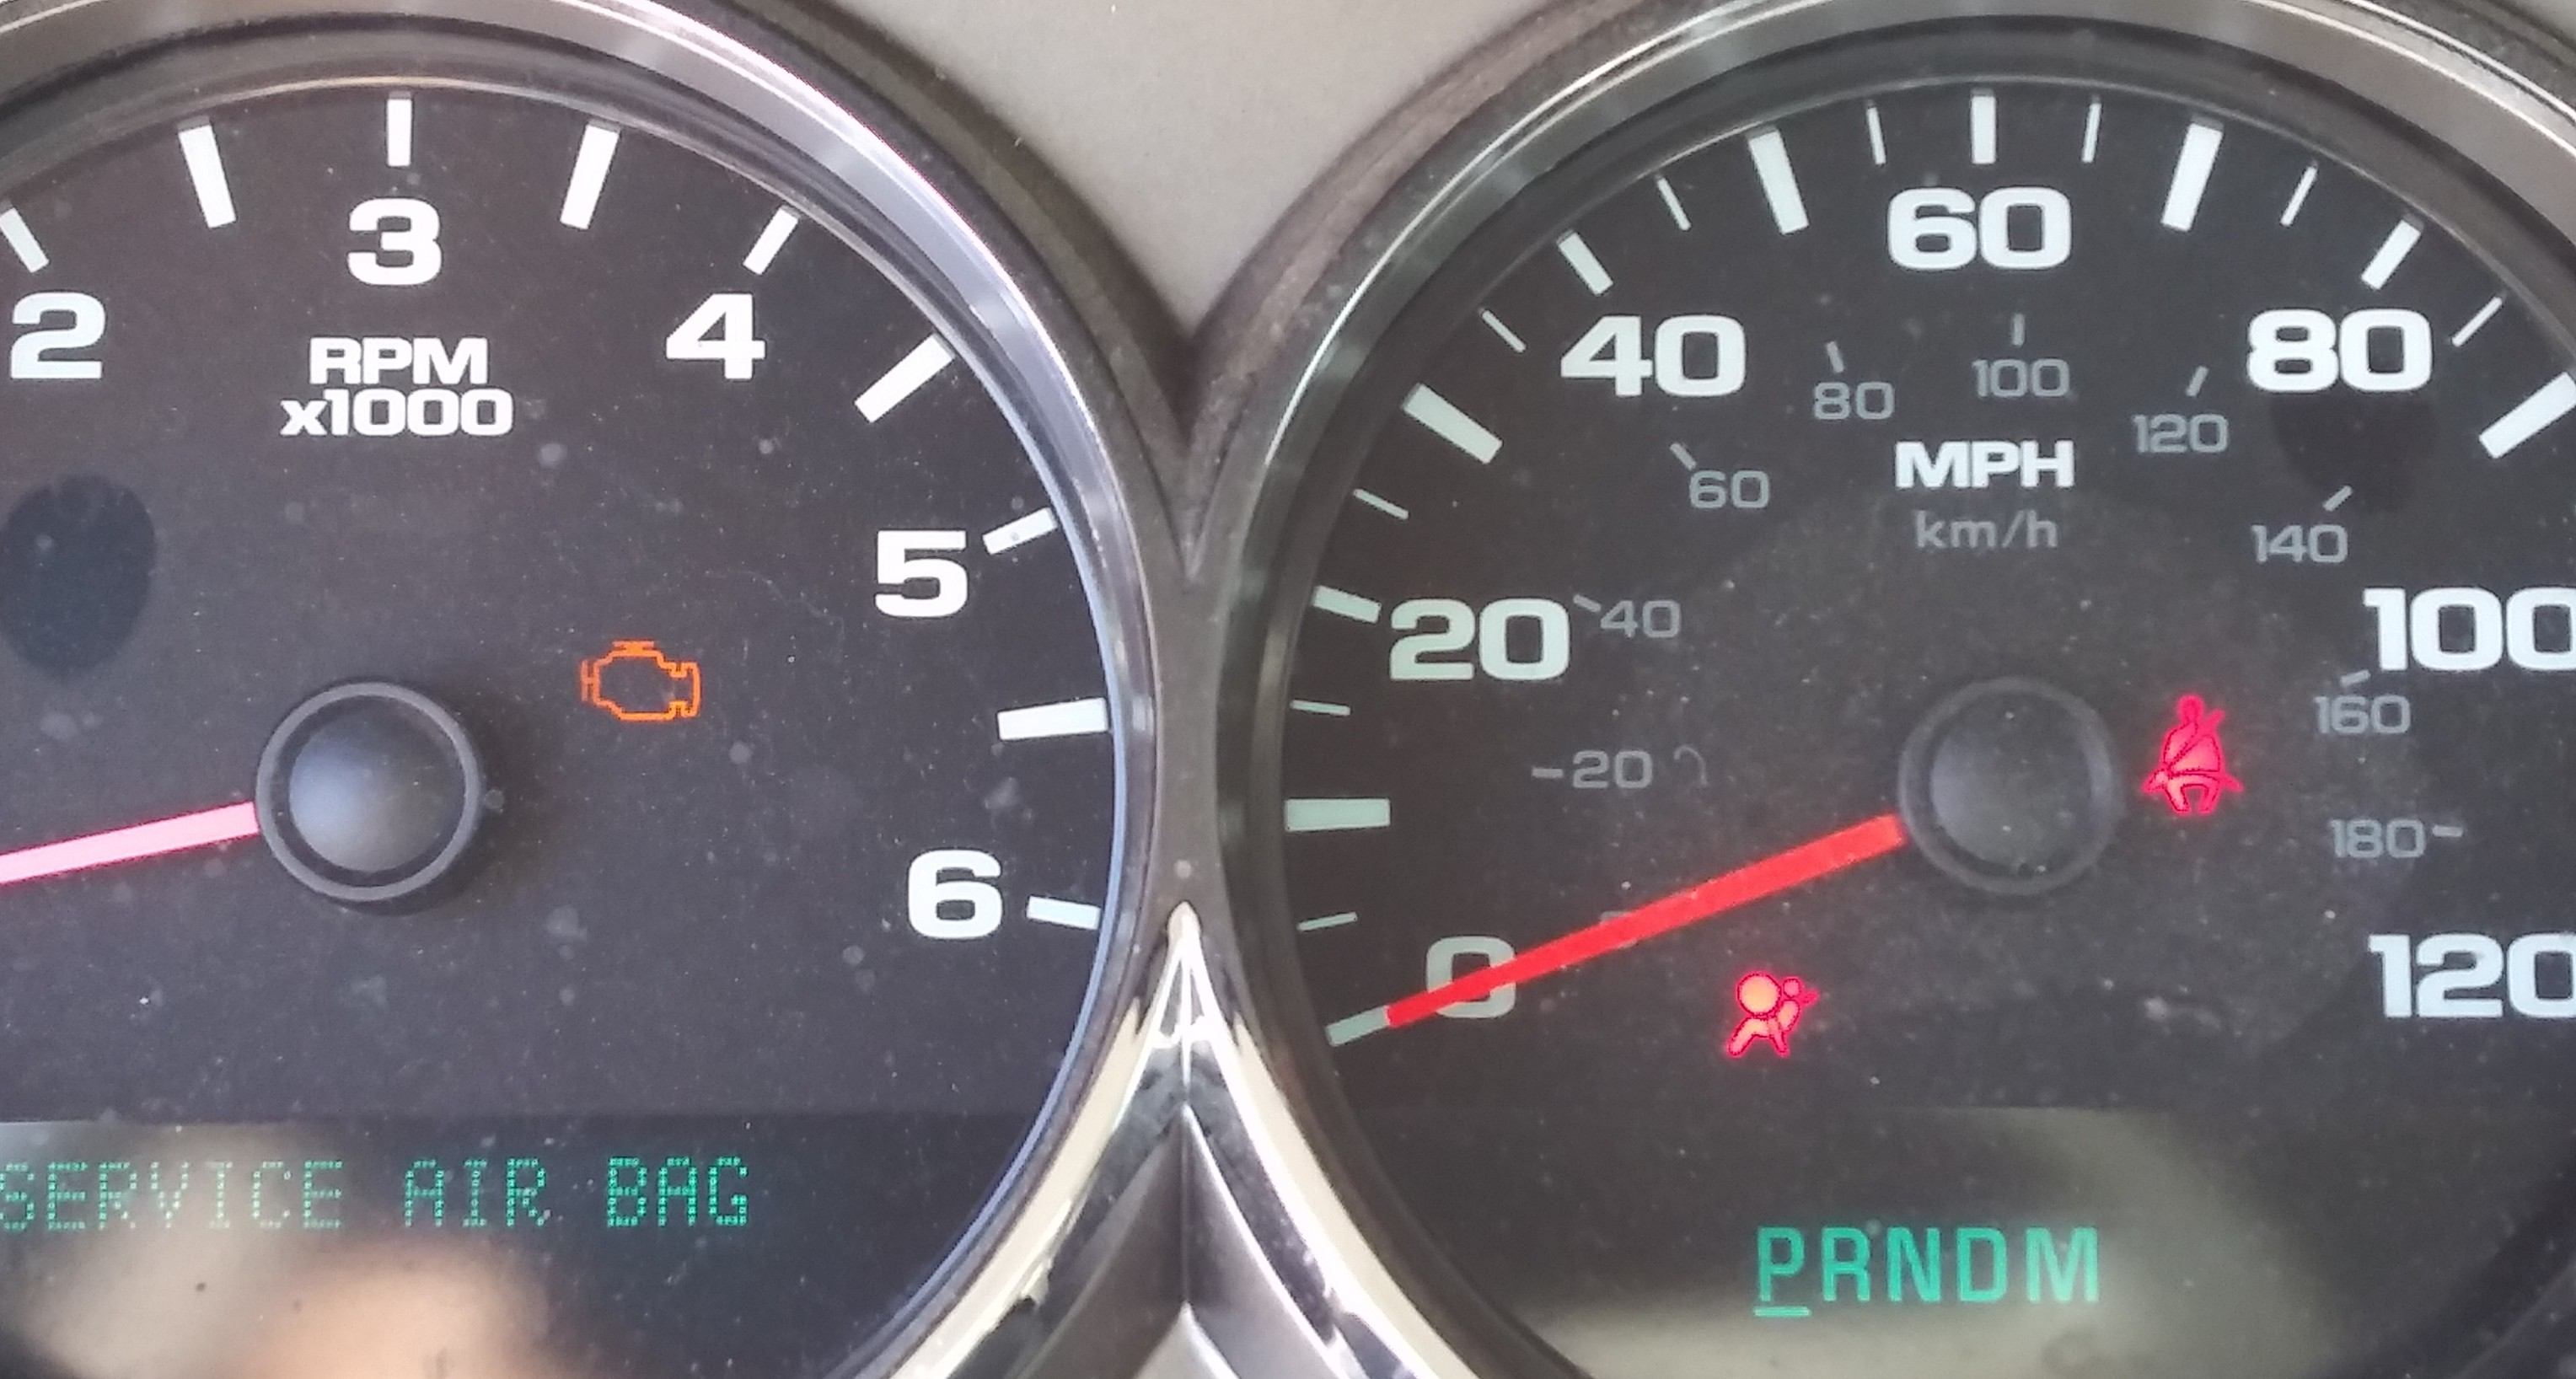Airbag_warning: (1725, 963, 1826, 1076)
Engine_emissions: (575, 627, 714, 737)
Seatbelt_warning: (2150, 694, 2247, 825)
